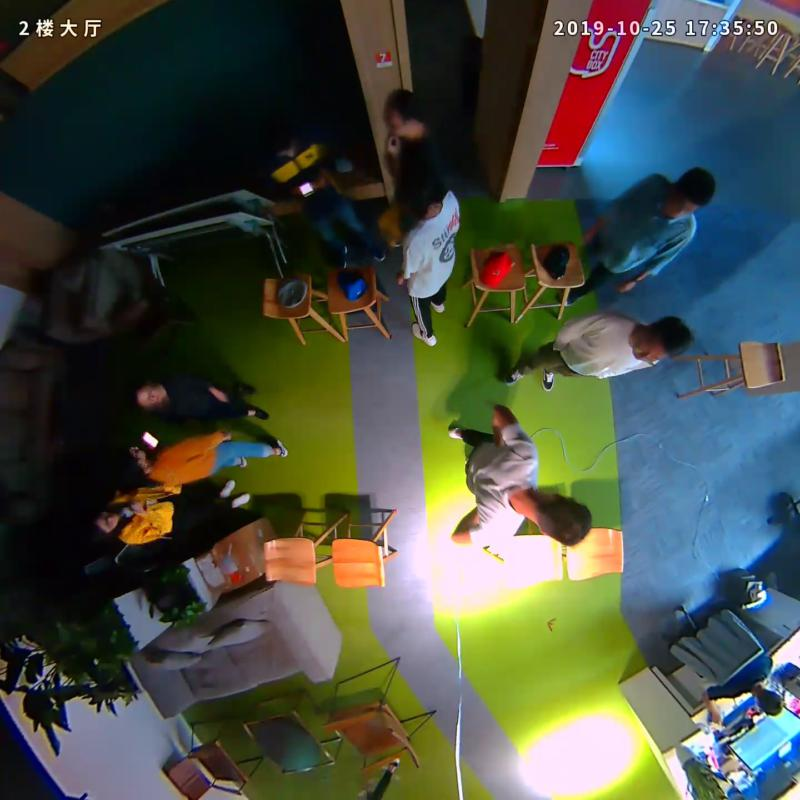head: (387, 156, 456, 225), (623, 313, 703, 372), (527, 487, 595, 555), (661, 164, 720, 225), (367, 90, 433, 138), (113, 371, 177, 419), (95, 434, 157, 483), (72, 498, 132, 545), (254, 109, 307, 158)
